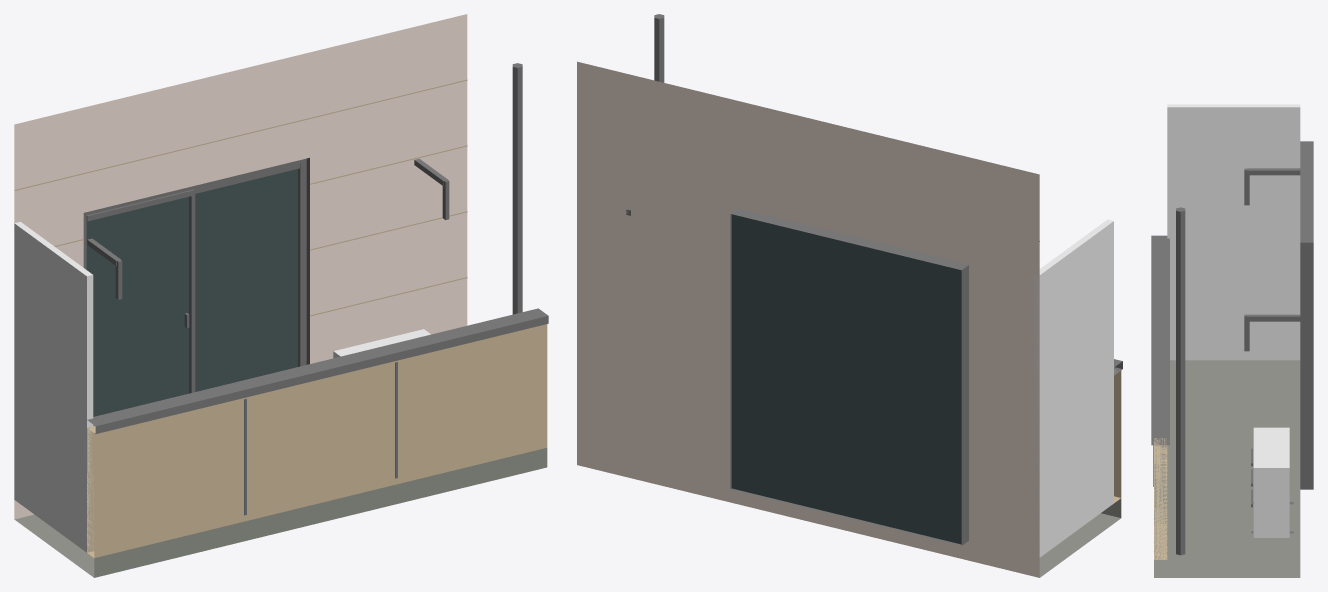
The model's file is mid-w1_close.fbx.
3 views of the same model, side by side, from view 1: azimuth 30°, elevation 25°; view 2: azimuth 150°, elevation 25°; view 3: azimuth 270°, elevation 25° (orthographic). The views are drawn at different scales.
Visible parts, largest first — view 1: a2001/200/mid-w1_close; view 2: a2001/200/mid-w1_close; view 3: a2001/200/mid-w1_close.
Part boxes in pixels (bbox=[...]): a2001/200/mid-w1_close: bbox=[14, 14, 548, 577]; a2001/200/mid-w1_close: bbox=[577, 14, 1122, 577]; a2001/200/mid-w1_close: bbox=[1151, 104, 1313, 577].
Size of the model in its own units: 3.6 by 3 by 1.22.
